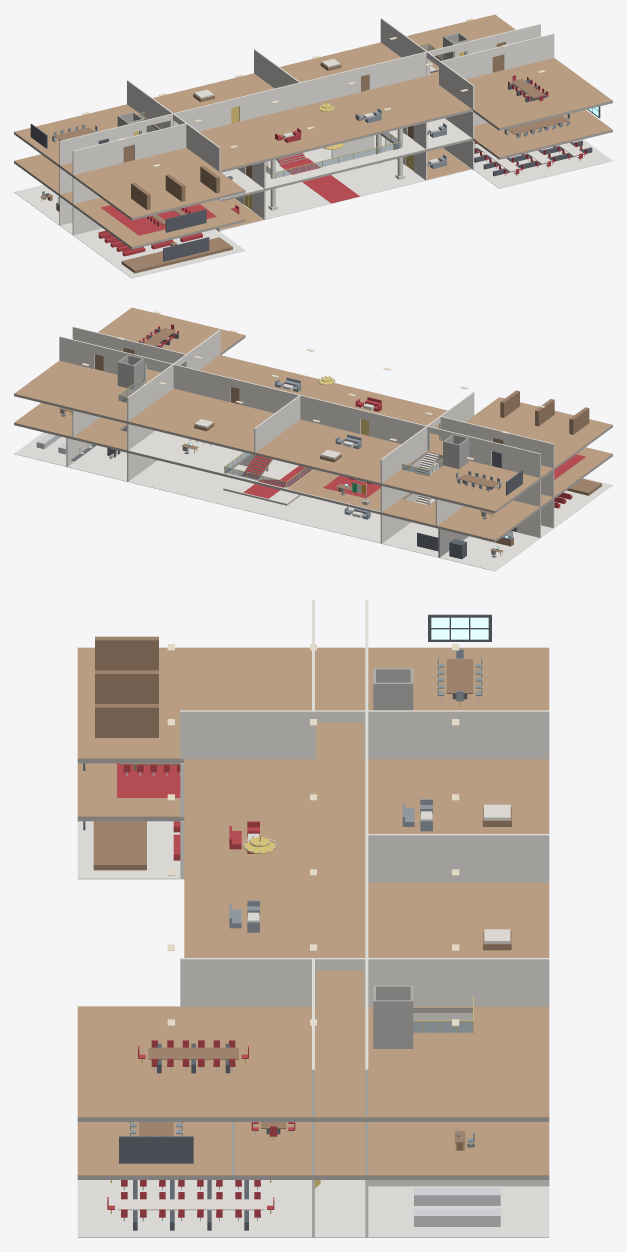
Rendered from SM_Palais_Presidentiel_Interieur.fbx.
3 renders of one model, top to bottom at view 1: azimuth 30°, elevation 25°; view 2: azimuth 150°, elevation 25°; view 3: azimuth 270°, elevation 25°, orthographic. The views are drawn at different scales.
Parts seen in each view (by area): view 1: Palais_Int_R2_Structure, Palais_Int_RDC_Structure, Palais_Int_R1_Structure, Palais_Int_RDC_Mobilier, Palais_Int_R2_Mobilier, Palais_Int_R1_Mobilier; view 2: Palais_Int_R2_Structure, Palais_Int_RDC_Structure, Palais_Int_R1_Structure, Palais_Int_R2_Mobilier, Palais_Int_RDC_Mobilier, Palais_Int_R1_Mobilier; view 3: Palais_Int_R2_Structure, Palais_Int_R1_Structure, Palais_Int_RDC_Structure, Palais_Int_R2_Mobilier, Palais_Int_RDC_Mobilier, Palais_Int_R1_Mobilier.
Boxes of the visible parts, x1,y1,x2,y2 form: Palais_Int_R2_Structure: [14, 14, 612, 220]; Palais_Int_RDC_Structure: [14, 128, 612, 278]; Palais_Int_R1_Structure: [14, 61, 612, 249]; Palais_Int_RDC_Mobilier: [40, 140, 592, 273]; Palais_Int_R2_Mobilier: [30, 58, 548, 209]; Palais_Int_R1_Mobilier: [101, 106, 600, 235]; Palais_Int_R2_Structure: [14, 307, 612, 513]; Palais_Int_RDC_Structure: [14, 426, 612, 571]; Palais_Int_R1_Structure: [14, 383, 612, 542]; Palais_Int_R2_Mobilier: [138, 324, 589, 495]; Palais_Int_RDC_Mobilier: [36, 433, 601, 559]; Palais_Int_R1_Mobilier: [59, 407, 585, 519]; Palais_Int_R2_Structure: [77, 600, 549, 1121]; Palais_Int_R1_Structure: [77, 763, 549, 1179]; Palais_Int_RDC_Structure: [77, 821, 549, 1237]; Palais_Int_R2_Mobilier: [95, 614, 511, 1073]; Palais_Int_RDC_Mobilier: [83, 821, 500, 1230]; Palais_Int_R1_Mobilier: [83, 763, 474, 1163].
Size of the model in its own units: 8340 by 1409 by 3540.
